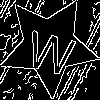W: (24, 21, 79, 77)
